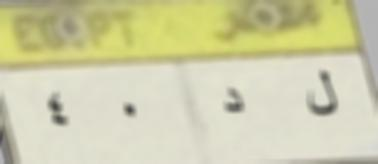0: (115, 94, 146, 127)
4: (46, 92, 74, 128)
daal: (218, 83, 251, 123)
laam: (296, 62, 344, 127)
